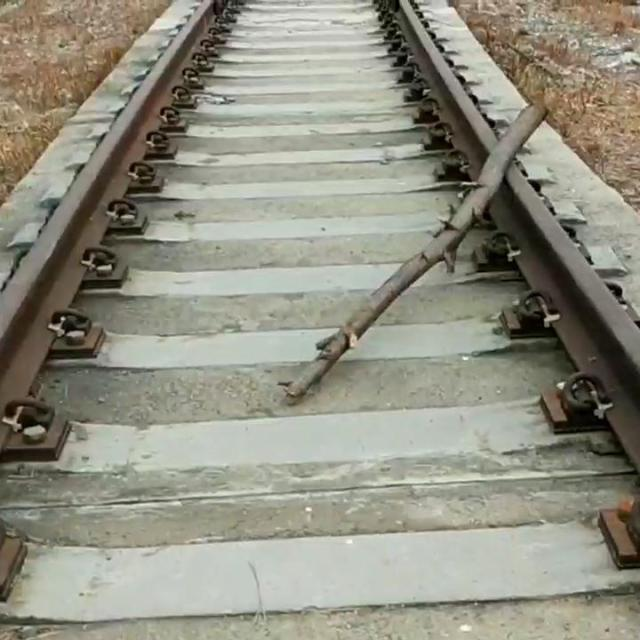rail: (0, 0, 214, 412), (493, 164, 640, 473), (400, 0, 497, 172)
